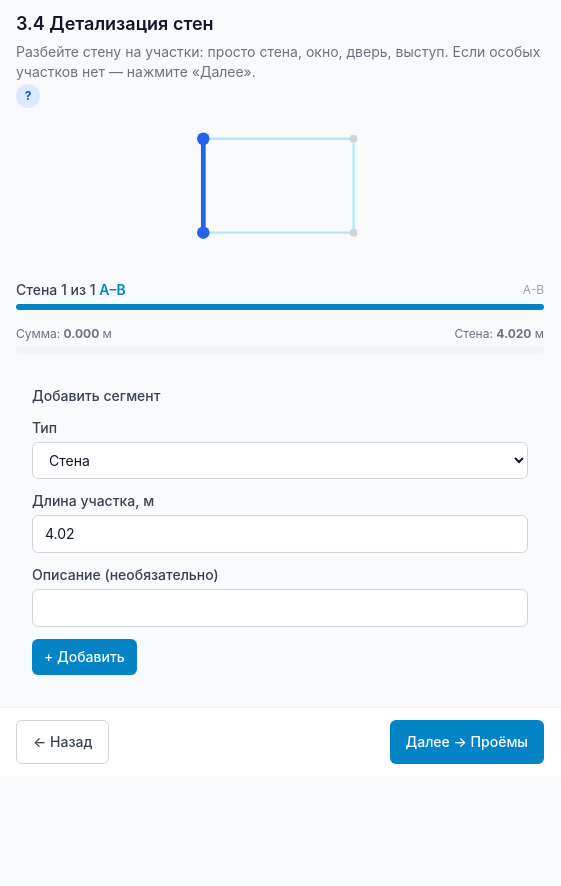
Test: PerimeterWalkStep › shows inner/outer toggle only for STEP type
Expected: the text "Внутренняя" is not shown
Select "Ступенька" in the dropdown at (280, 460), box [32,442,528,479]
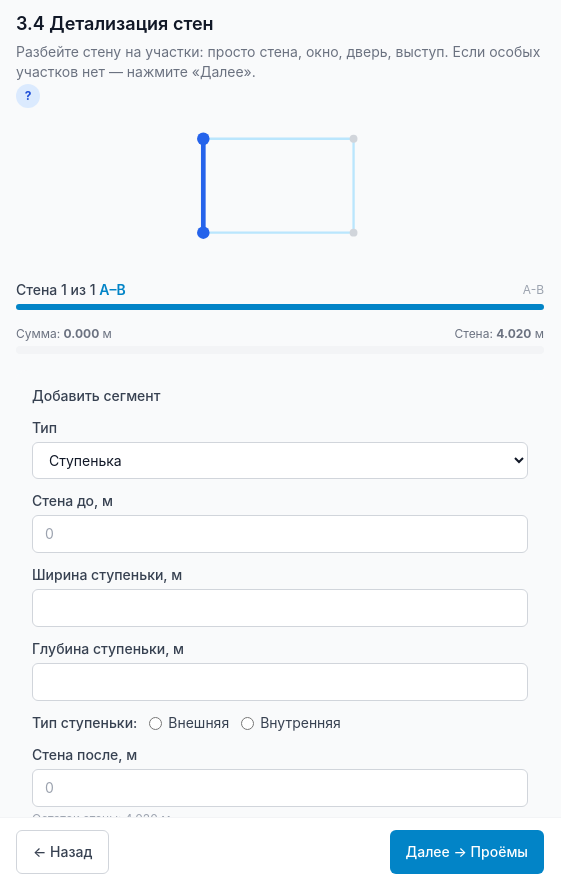
Expected: the text "Внутренняя" is shown, [260,713,341,733]
Expected: the text "Внешняя" is shown, [168,713,229,733]
